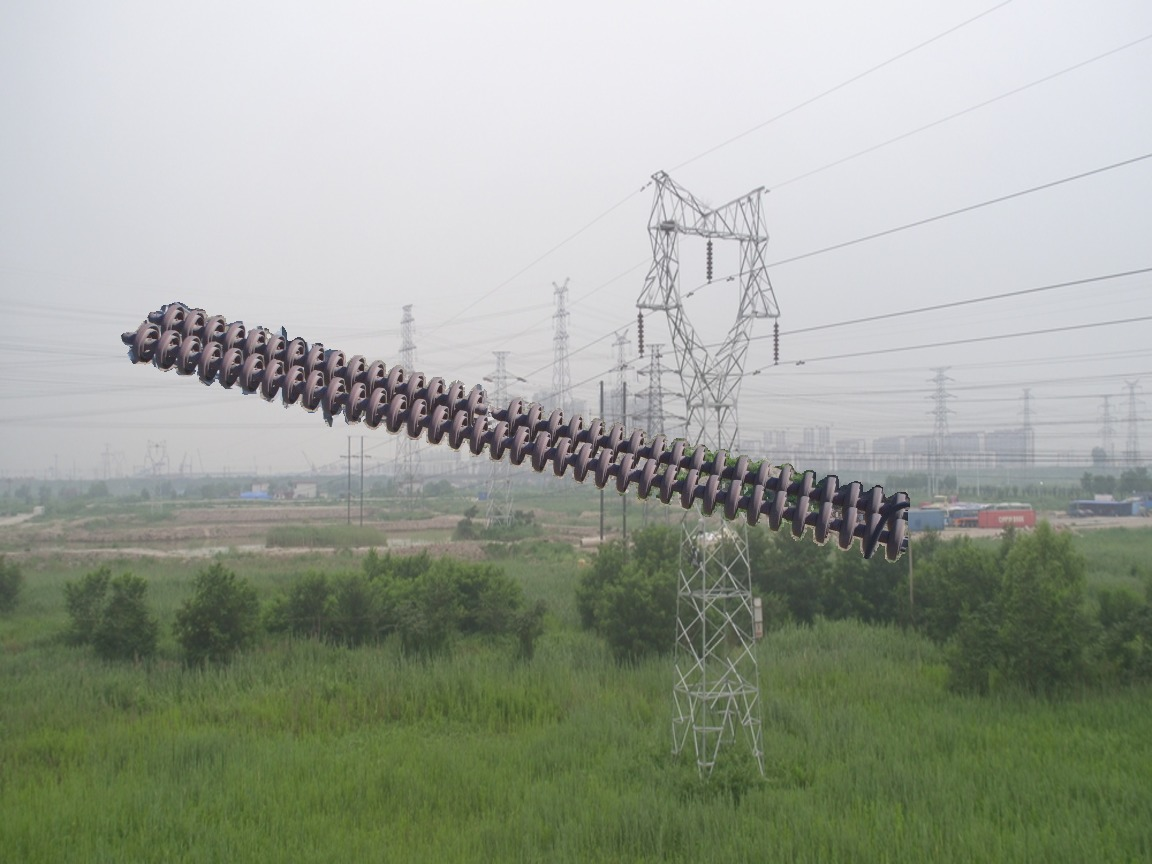defect: (461, 384, 525, 426)
